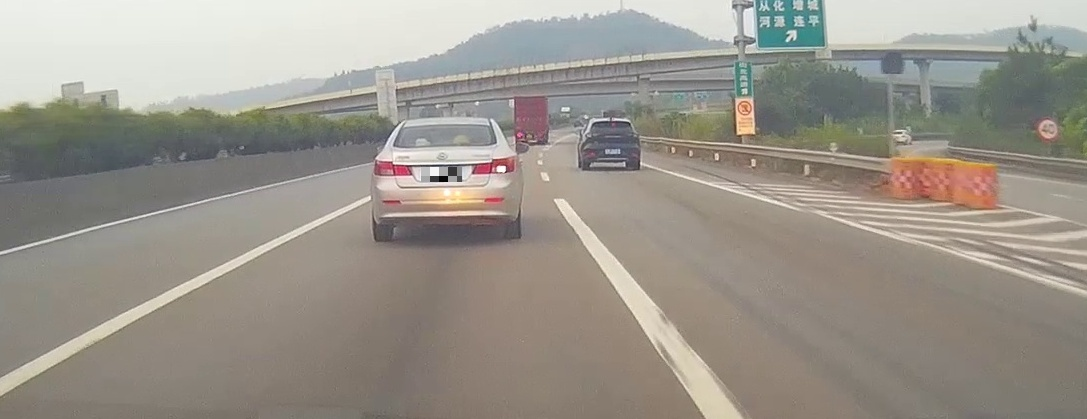L_light: (373, 158, 412, 176), (586, 133, 599, 138)
R_light: (472, 157, 515, 174), (627, 133, 637, 138)
T_light: (433, 125, 449, 129), (608, 122, 615, 126)
day-no: (581, 118, 641, 170)
day-right: (370, 117, 523, 242)
plate_1: (421, 167, 462, 182)
